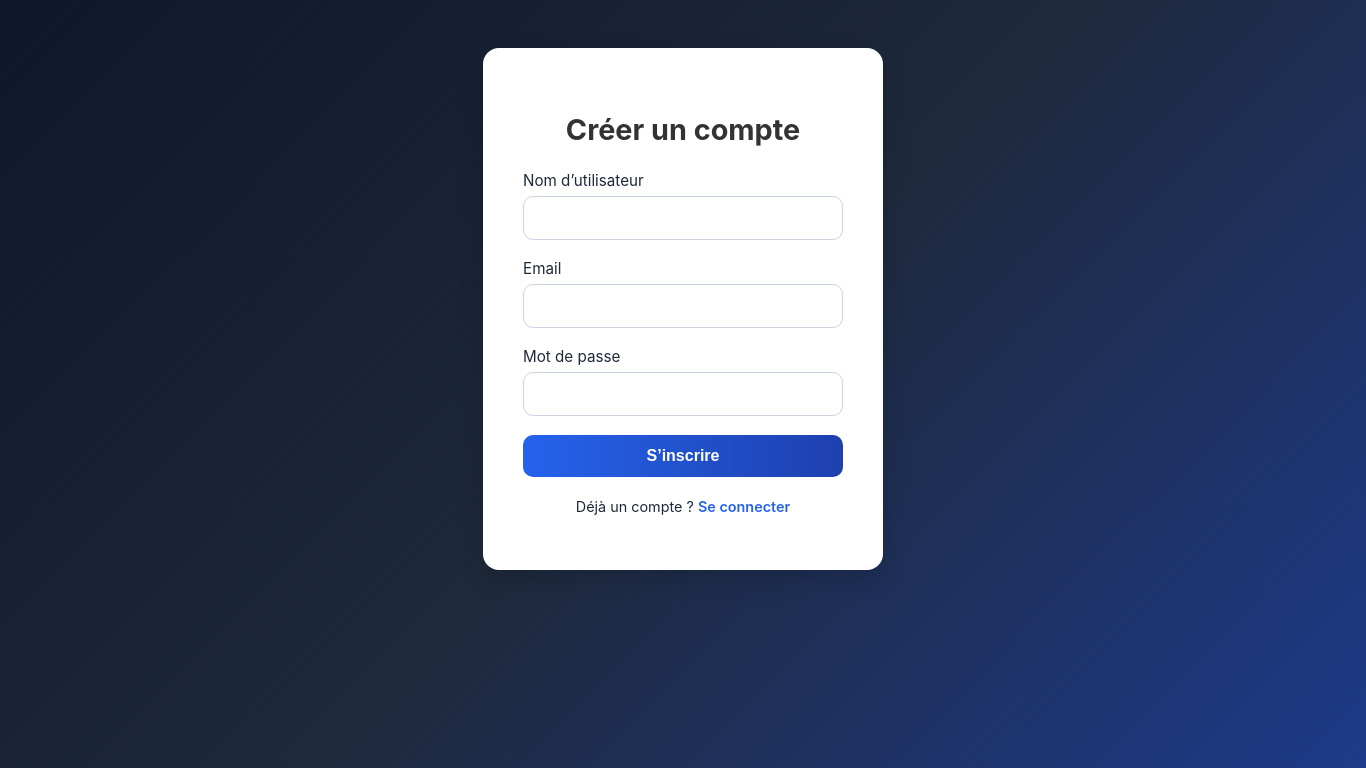
Test: Signup Component › utilise un message d'erreur par défaut si l'API ne renvoie pas de détails
The width and height of the screenshot is (1366, 768).
Type "TestUser" into the field labelled "Nom d’utilisateur" at (683, 218), box x1=523 y1=196 x2=843 y2=240
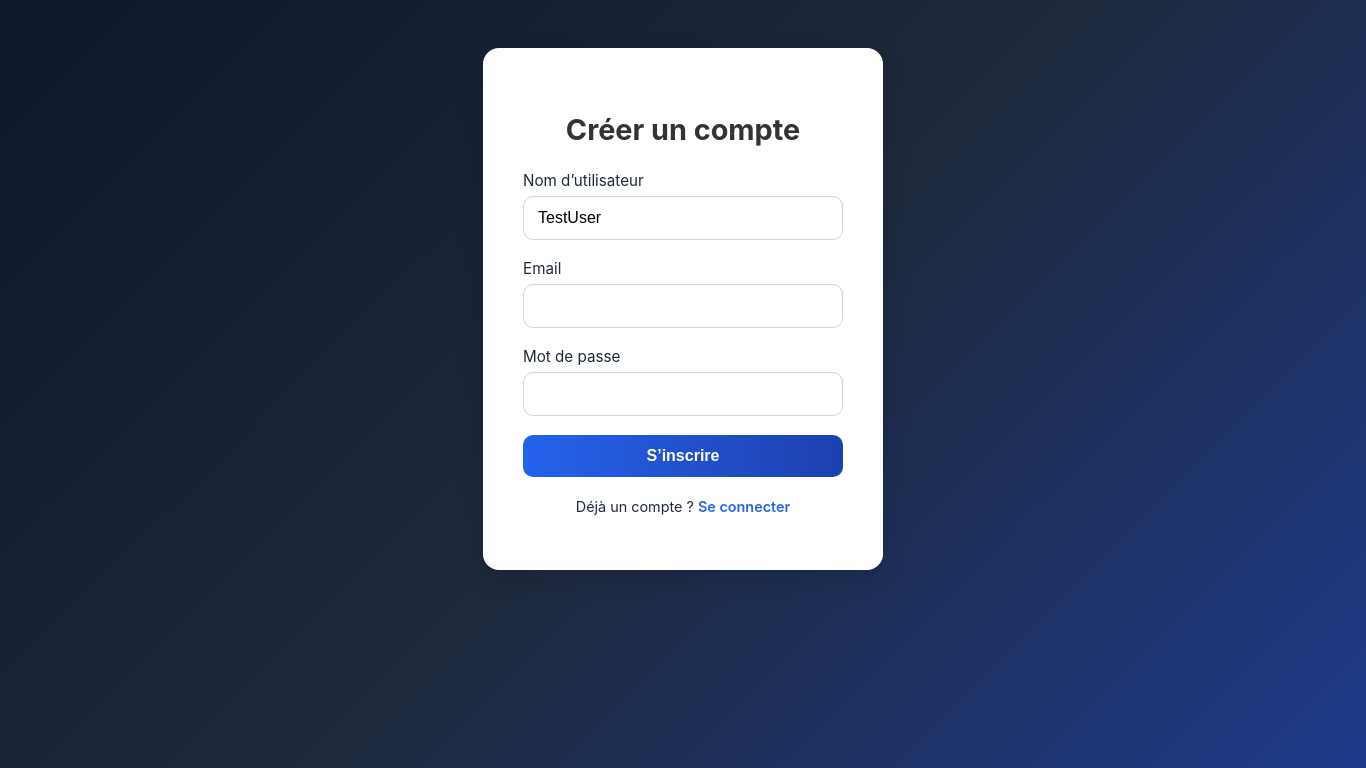
Type "test@test.com" into the field labelled "Email" at (683, 306), box x1=523 y1=284 x2=843 y2=328
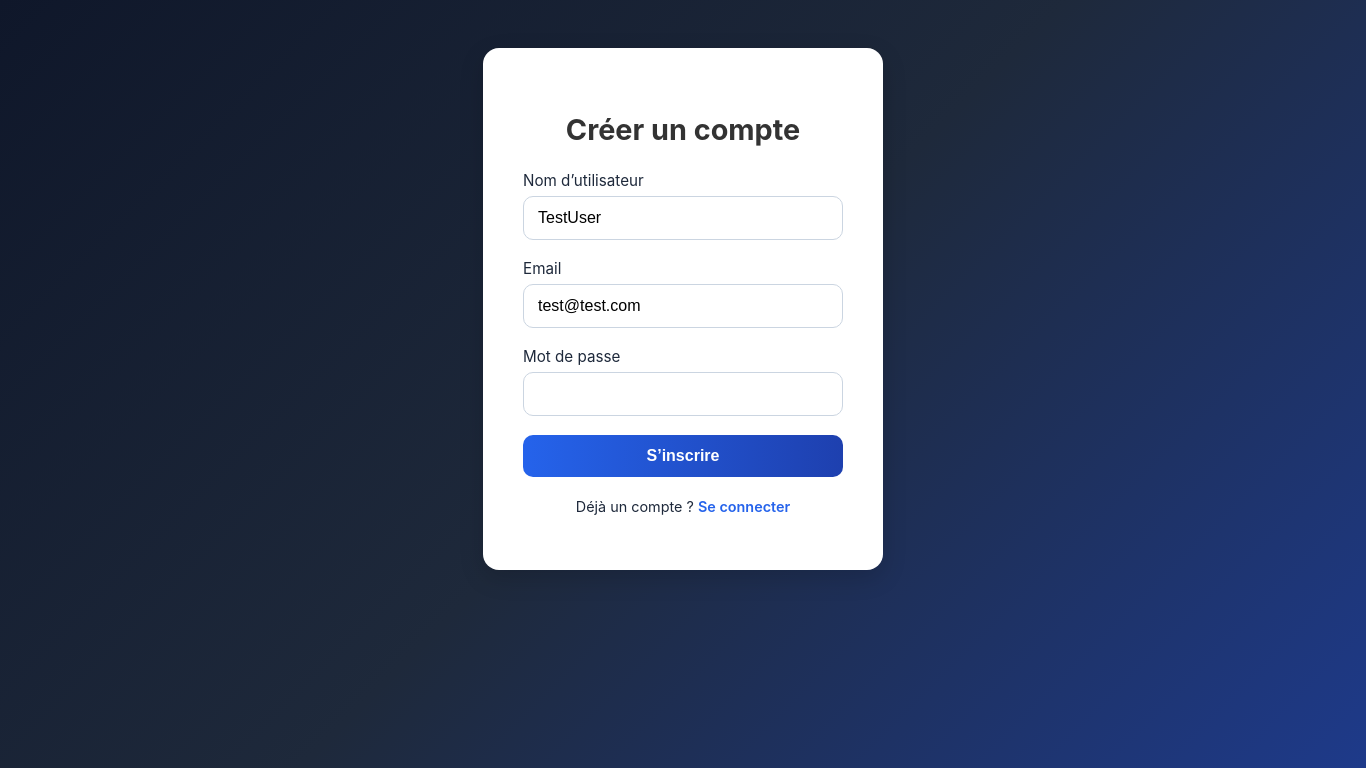
Type "password123" into the password field labelled "Mot de passe" at (683, 394), box x1=523 y1=372 x2=843 y2=416
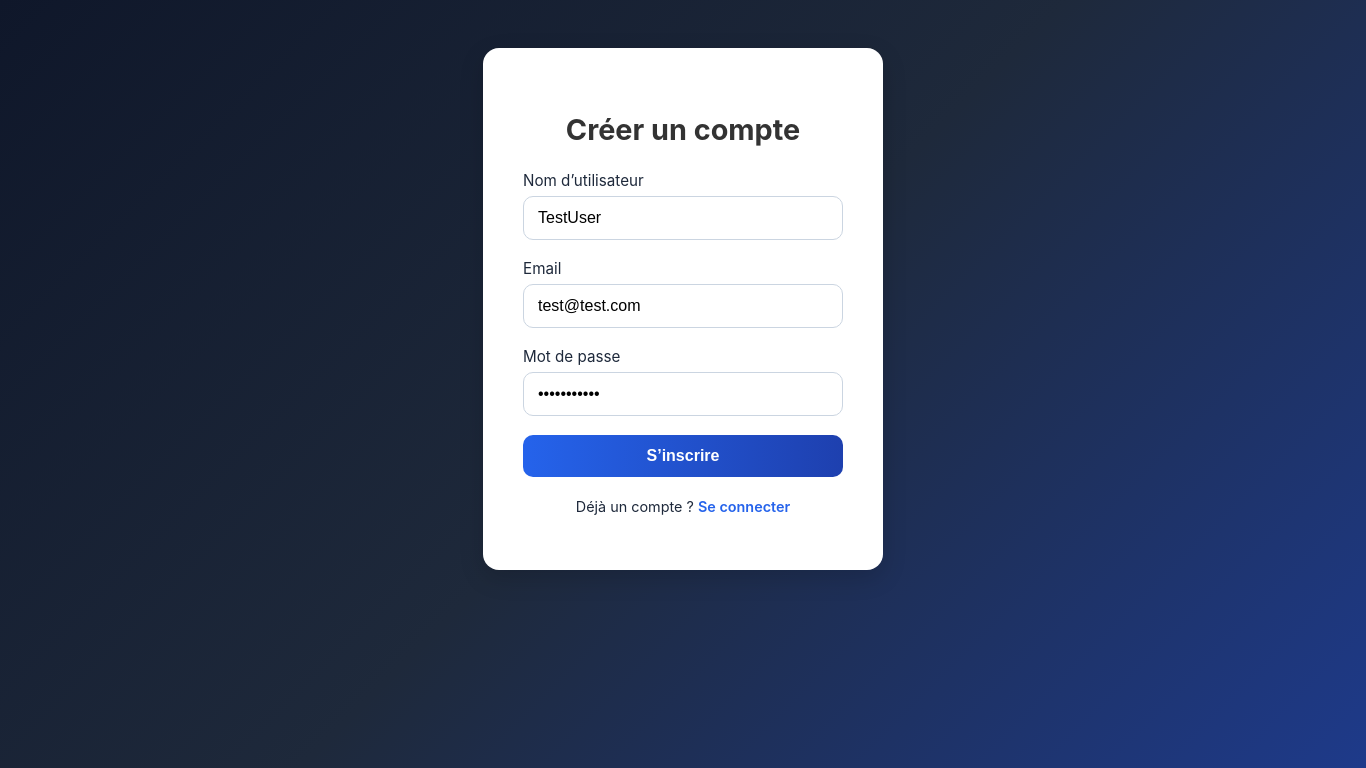
Click the button "S’inscrire" at (683, 456), box x1=523 y1=436 x2=843 y2=478
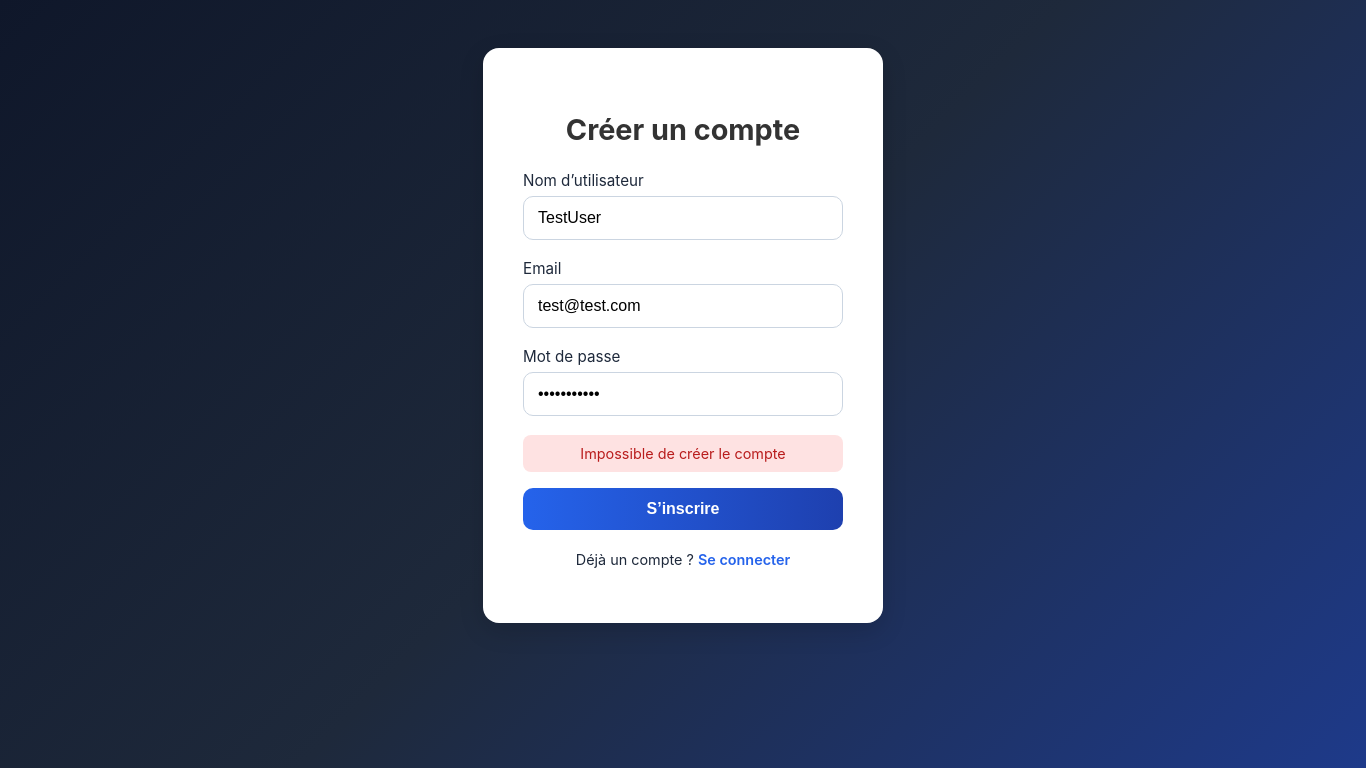
Now the text "Impossible de créer le compte" is shown, box x1=523 y1=436 x2=843 y2=472
